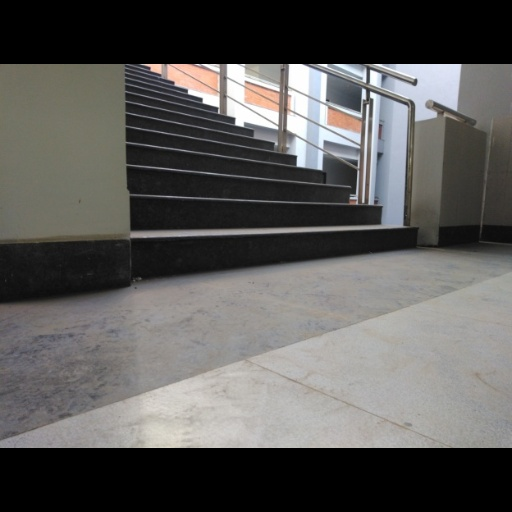Stairs: (126, 66, 416, 271)
